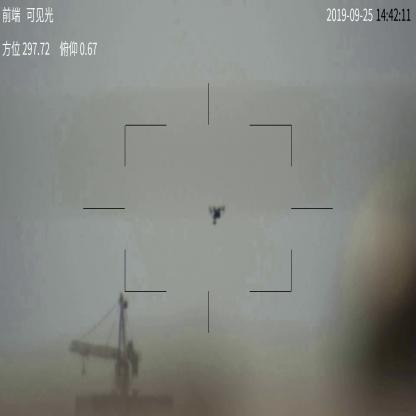uav: (207, 201, 227, 225)
